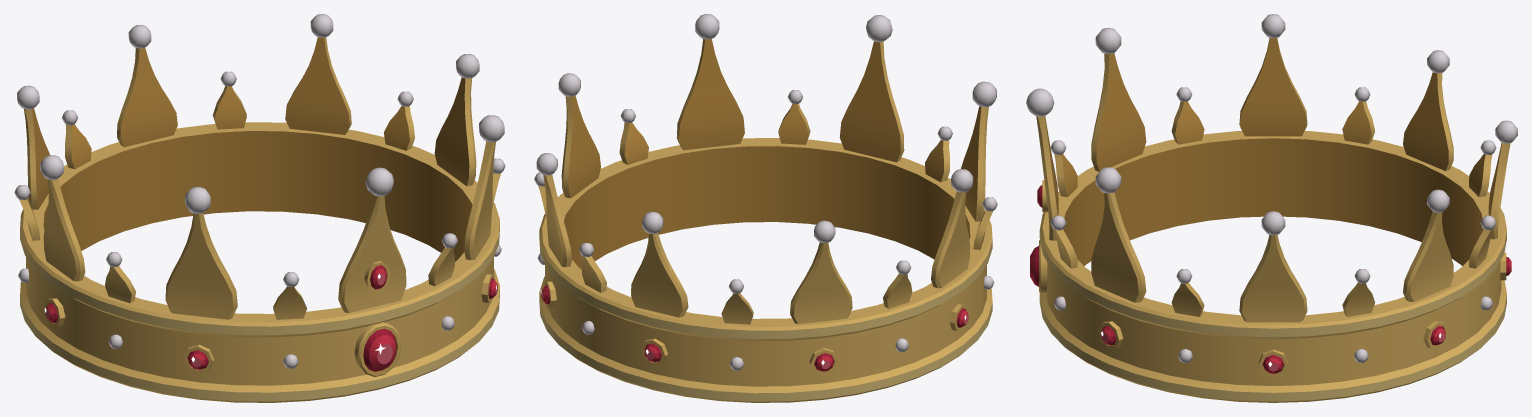
Rendered from coronation_crown.glb.
3 renders of one model, left to right at view 1: azimuth 30°, elevation 25°; view 2: azimuth 150°, elevation 25°; view 3: azimuth 270°, elevation 25°, orthographic. The views are drawn at different scales.
Parts seen in each view (by area): view 1: coronation_crown_vc, coronation_crown_vc_detail; view 2: coronation_crown_vc, coronation_crown_vc_detail; view 3: coronation_crown_vc, coronation_crown_vc_detail.
Boxes of the visible parts, x1=… form: coronation_crown_vc: x1=20, y1=37, x2=499, y2=402; coronation_crown_vc_detail: x1=14, y1=14, x2=505, y2=376; coronation_crown_vc: x1=539, y1=39, x2=992, y2=402; coronation_crown_vc_detail: x1=534, y1=14, x2=997, y2=375; coronation_crown_vc: x1=1036, y1=38, x2=1510, y2=402; coronation_crown_vc_detail: x1=1026, y1=14, x2=1517, y2=377.
Bounding box in the file's own units: 0.2559 × 0.1242 × 0.2568.
